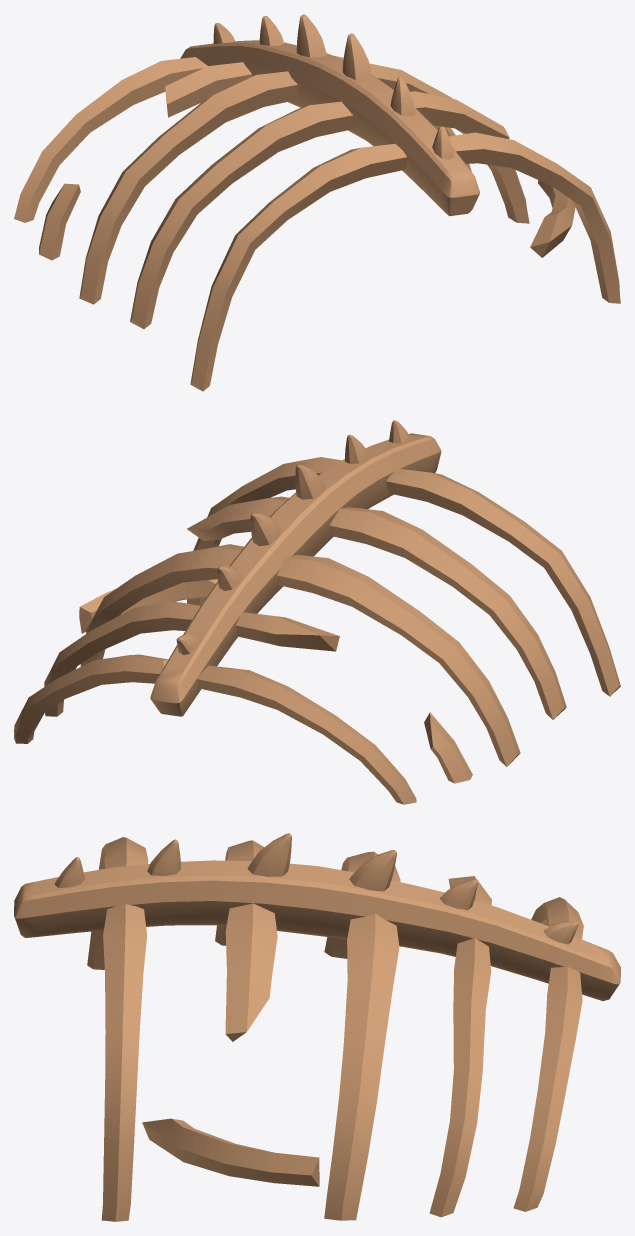
Rendered from beach_bone.glb.
3 views of the same model, one above another, from view 1: azimuth 30°, elevation 25°; view 2: azimuth 150°, elevation 25°; view 3: azimuth 270°, elevation 25° (orthographic). The views are drawn at different scales.
Visible parts, largest first — view 1: Environment_LargeBones; view 2: Environment_LargeBones; view 3: Environment_LargeBones.
Part boxes in pixels (x1,y1,x2,y2): Environment_LargeBones: (14, 14, 620, 391); Environment_LargeBones: (14, 420, 620, 804); Environment_LargeBones: (14, 833, 620, 1221).
Size of the model in its own units: 6.5 by 3.43 by 6.62.
1 material, 1 textured.
